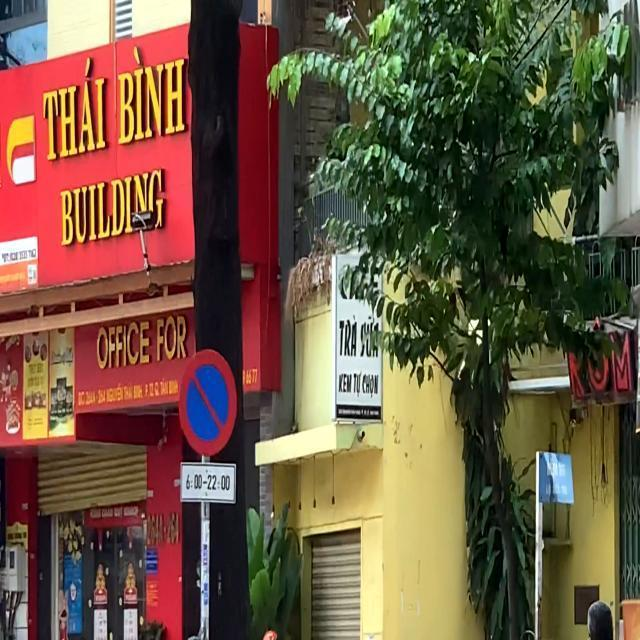131a-cam-do-xe: (176, 348, 238, 456)
